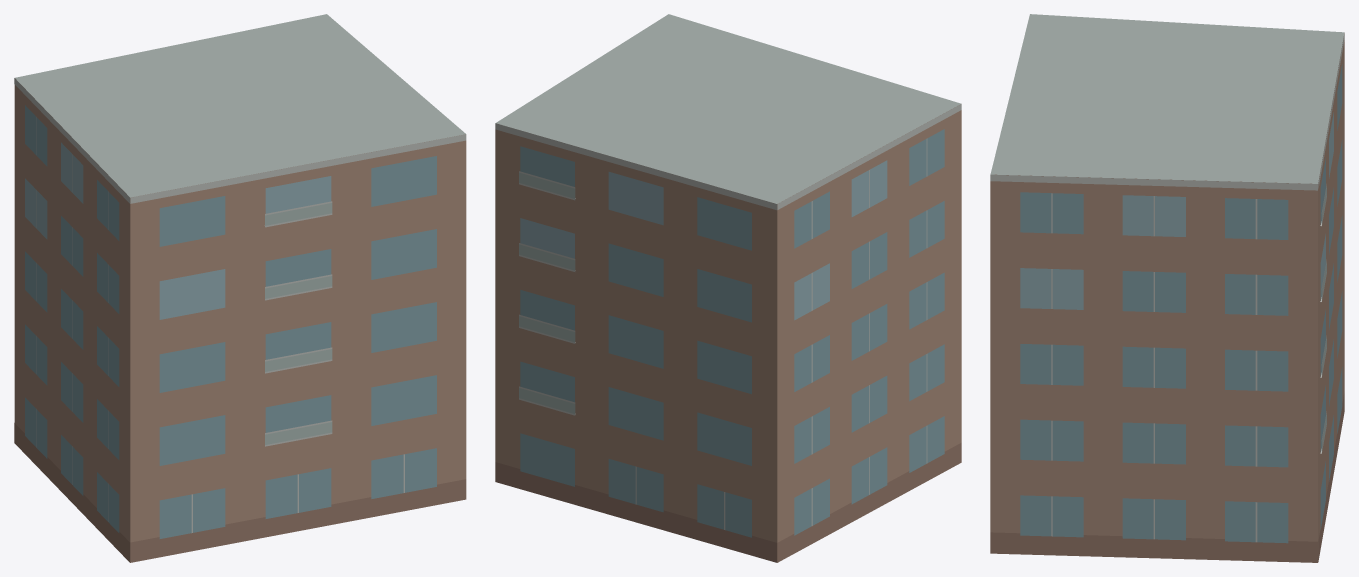
Rendered from survey-upis-32729323.glb.
The picture shows the model from 3 angles, left to right: view 1: azimuth 30°, elevation 25°; view 2: azimuth 150°, elevation 25°; view 3: azimuth 270°, elevation 25°; orthographic projection. The views are drawn at different scales.
Visible parts, largest first — view 1: survey-upis-32729323.tmp; view 2: survey-upis-32729323.tmp; view 3: survey-upis-32729323.tmp.
Boxes of the visible parts, x1=… form: survey-upis-32729323.tmp: x1=14, y1=14, x2=466, y2=562; survey-upis-32729323.tmp: x1=495, y1=14, x2=961, y2=562; survey-upis-32729323.tmp: x1=990, y1=14, x2=1344, y2=562.
Bounding box in the file's own units: 13.48 × 14 × 11.87.
